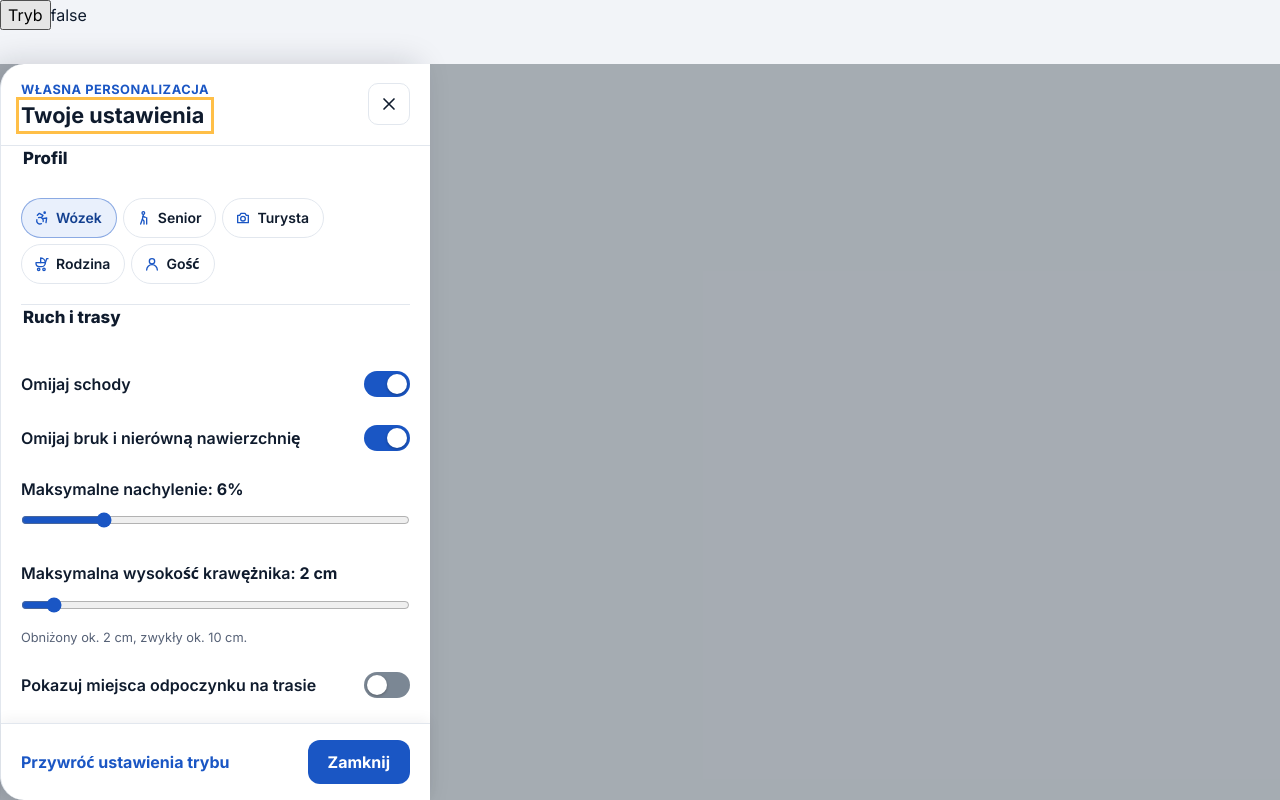
Test: SettingsDrawer › zmiana suwaka wywołuje setPrefs i oznacza ustawienia jako dostosowane
The width and height of the screenshot is (1280, 800).
Set the slider labelled "Maksymalne nachylenie: 6%" to "7" at (116, 520), box [21,507,410,533]
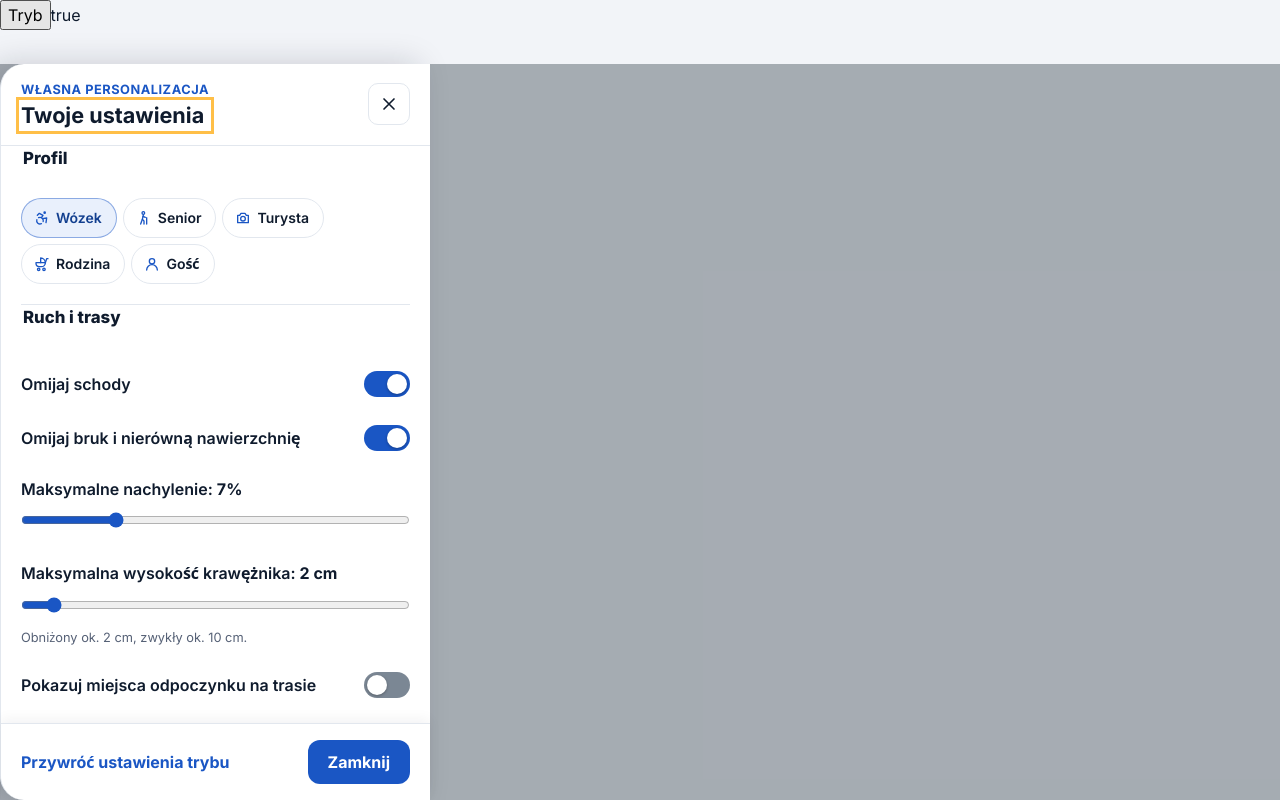
Now the text named "Stan personalizacji" reads "true", box [51,5,81,25]
